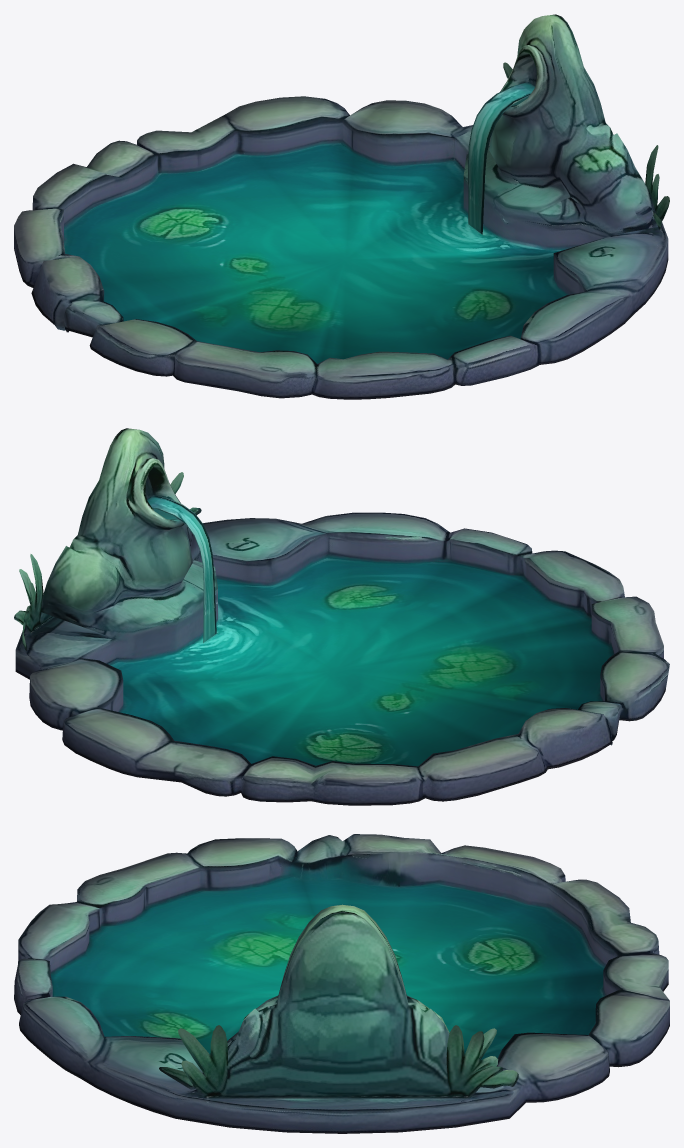
File: Pond.glb
3 renders of one model, top to bottom at view 1: azimuth 30°, elevation 25°; view 2: azimuth 150°, elevation 25°; view 3: azimuth 270°, elevation 25°, orthographic. The views are drawn at different scales.
Parts seen in each view (by area): view 1: Pond; view 2: Pond; view 3: Pond.
Part boxes in pixels (x1,y1,x2,y2): Pond: (14, 14, 669, 399); Pond: (14, 428, 669, 805); Pond: (14, 834, 669, 1133).
Size of what is drawn, in the model's own units: 5.42 by 1.83 by 5.42.
1 material, 1 textured.
